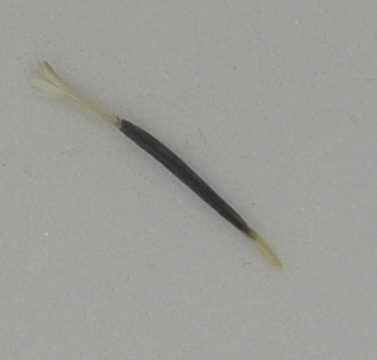เมล็ดดีเรียวยาว: (28, 57, 283, 272)
